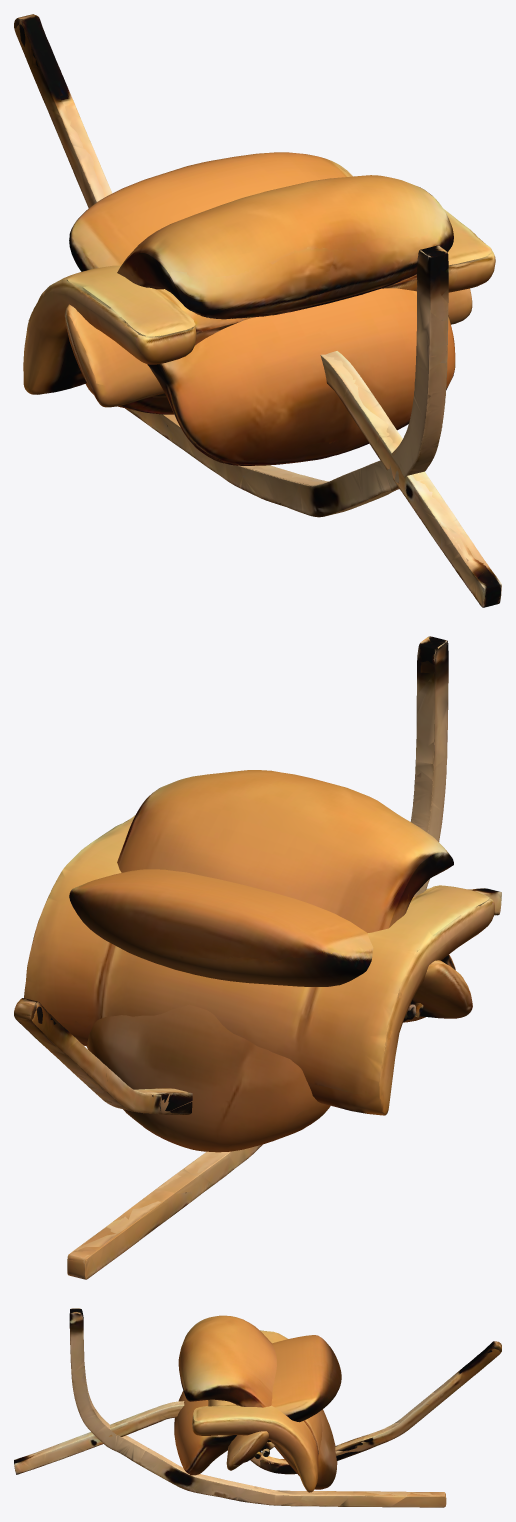
The model's file is NMK.2005.0638_09013.glb.
3 renders of one model, top to bottom at view 1: azimuth 30°, elevation 25°; view 2: azimuth 150°, elevation 25°; view 3: azimuth 270°, elevation 25°, orthographic. The views are drawn at different scales.
Visible parts, largest first — view 1: root.2, root.0, root.1, root.4, root.7, root.3, root.6, root.5; view 2: root.0, root.1, root.2, root.4, root.5, root.7, root.3, root.6; view 3: root.0, root.5, root.2, root.1, root.6, root.7, root.4, root.3.
Part boxes in pixels (x1=…): root.2: x1=69, y1=152, x2=455, y2=465; root.0: x1=85, y1=175, x2=453, y2=414; root.1: x1=23, y1=208, x2=495, y2=394; root.4: x1=125, y1=246, x2=447, y2=517; root.7: x1=14, y1=15, x2=500, y2=607; root.3: x1=64, y1=288, x2=472, y2=407; root.6: x1=14, y1=14, x2=501, y2=607; root.5: x1=243, y1=245, x2=448, y2=515; root.0: x1=87, y1=770, x2=453, y2=1152; root.1: x1=24, y1=815, x2=494, y2=1115; root.2: x1=69, y1=869, x2=455, y2=1022; root.4: x1=67, y1=636, x2=448, y2=1279; root.5: x1=67, y1=637, x2=447, y2=1279; root.7: x1=14, y1=888, x2=501, y2=1114; root.3: x1=403, y1=960, x2=472, y2=1021; root.6: x1=14, y1=888, x2=485, y2=1113; root.0: x1=178, y1=1315, x2=337, y2=1489; root.5: x1=69, y1=1308, x2=445, y2=1507; root.2: x1=174, y1=1335, x2=341, y2=1475; root.1: x1=192, y1=1330, x2=322, y2=1492; root.6: x1=14, y1=1341, x2=501, y2=1474; root.7: x1=14, y1=1341, x2=501, y2=1473; root.4: x1=69, y1=1308, x2=446, y2=1504; root.3: x1=226, y1=1431, x2=270, y2=1470.
Size of the model in its own units: 26455 by 24788 by 56353.
1 material, 1 textured.
